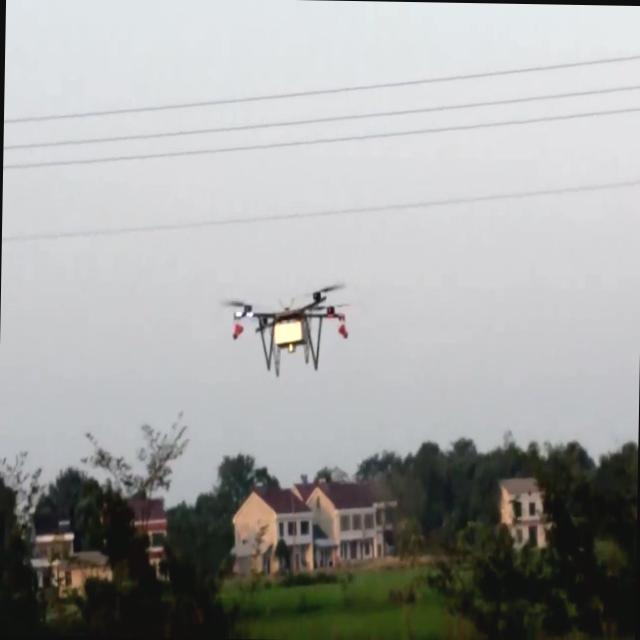drone: (220, 277, 354, 382)
